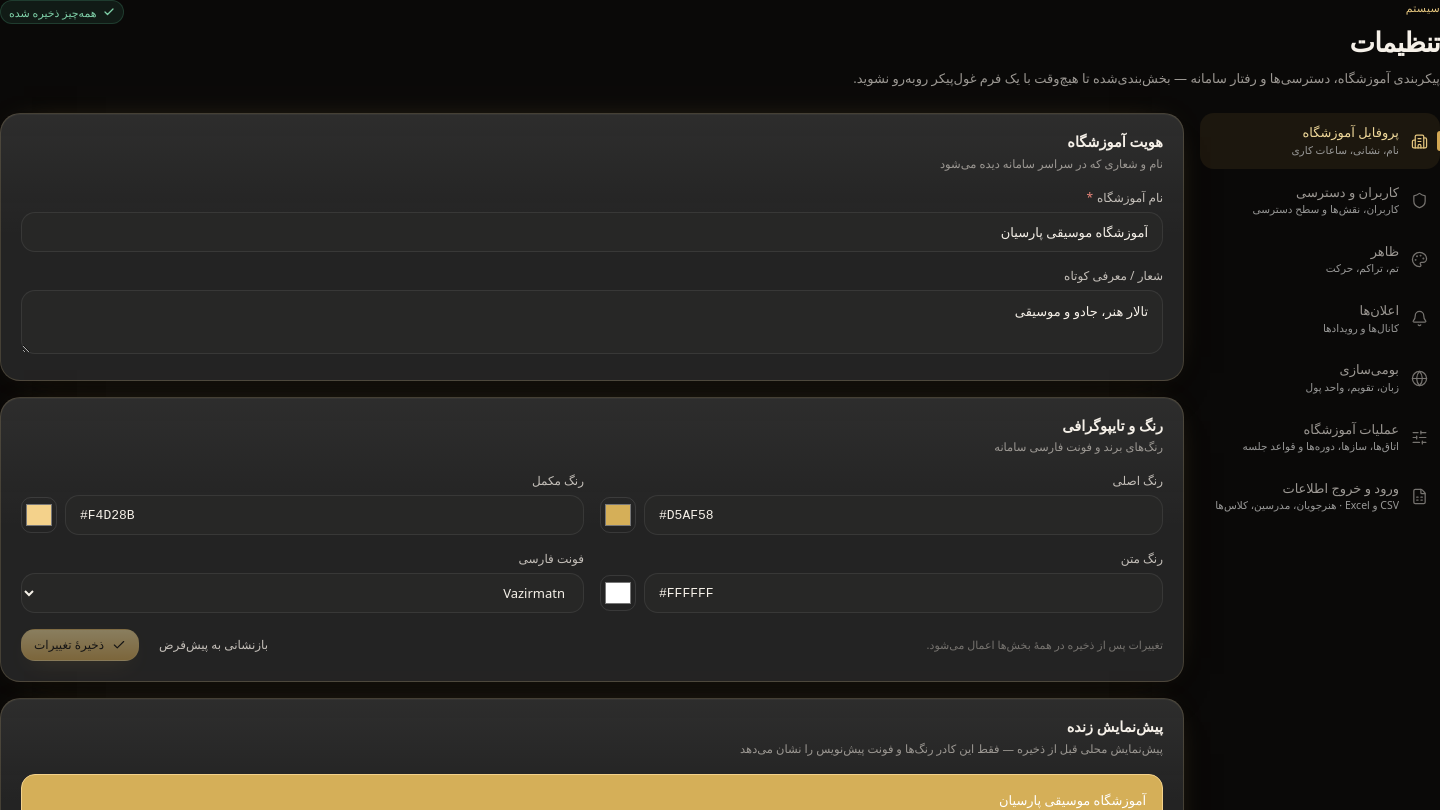
client composition — no demo wording on user-facing deferral copy › Settings: the operations hint lists the client's own sections, and the notifications note names no demo
Click the button "اعلان‌ها کانال‌ها و رویدادها".
click(1320, 319)  # box [1200,291,1439,346]
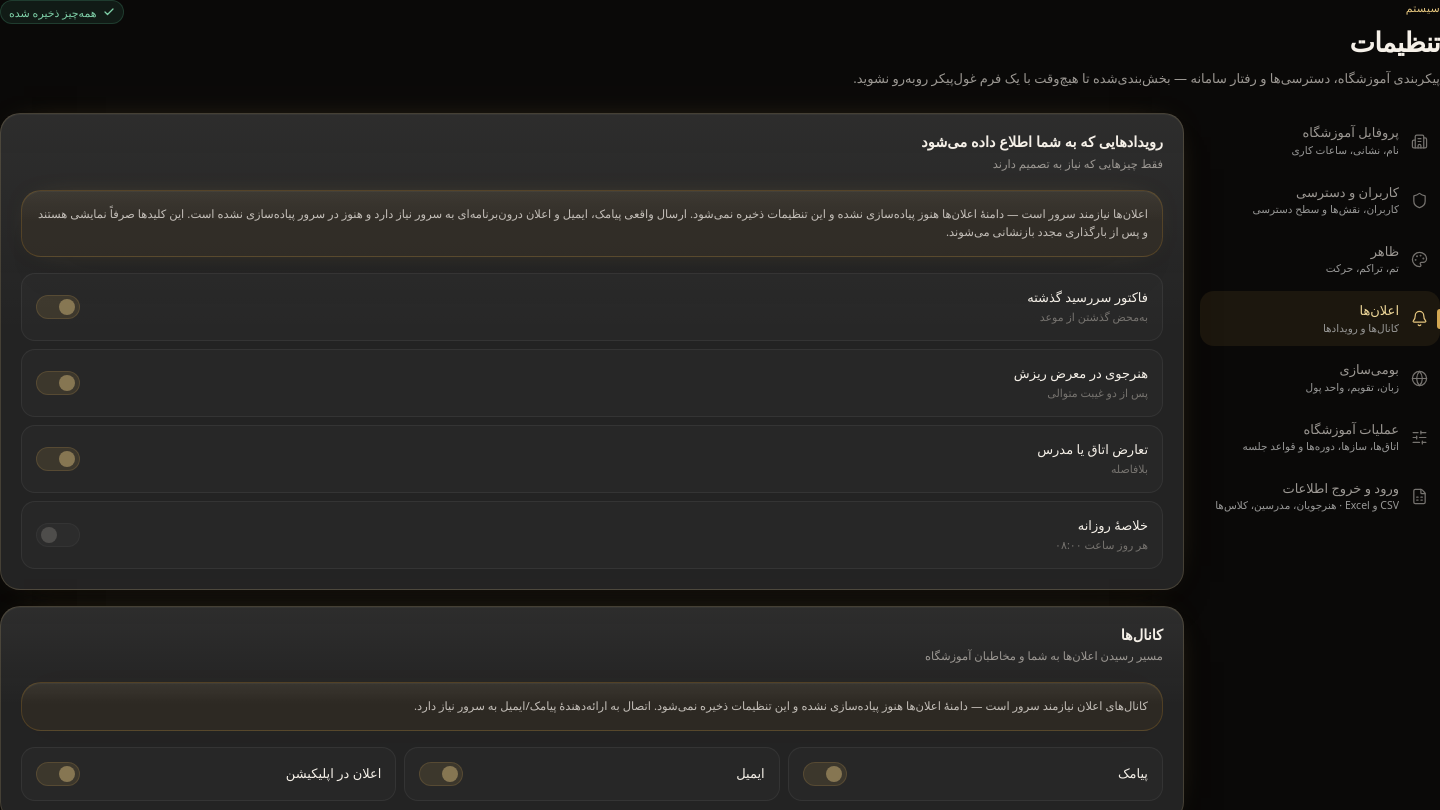
Expected: the text "نیازمند سرور است" is shown, [363,206,1148,221]
